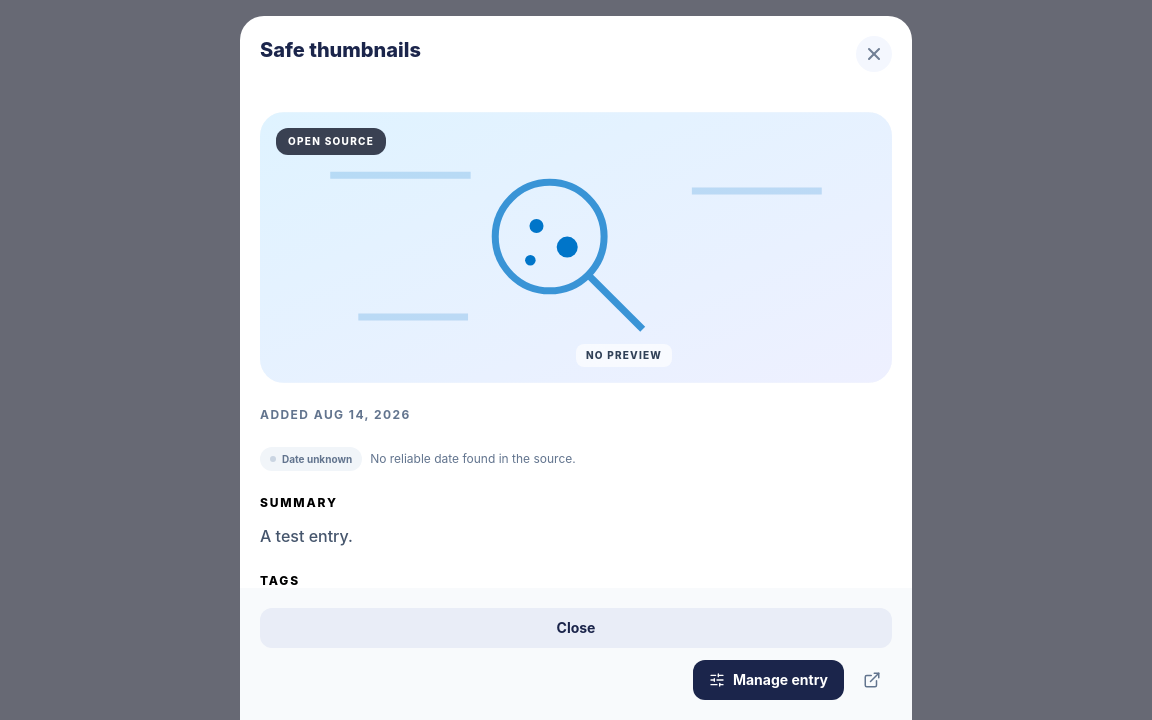
Scenario: EntryModal detail and management modes › starts as a read-only detail view and only mounts management controls on request
Expected: the text "A test entry." is shown, [260,526,353,546]
Expected: the field labelled "Title" is not shown
Click the button "Manage entry": (768, 680) [693,660,844,700]
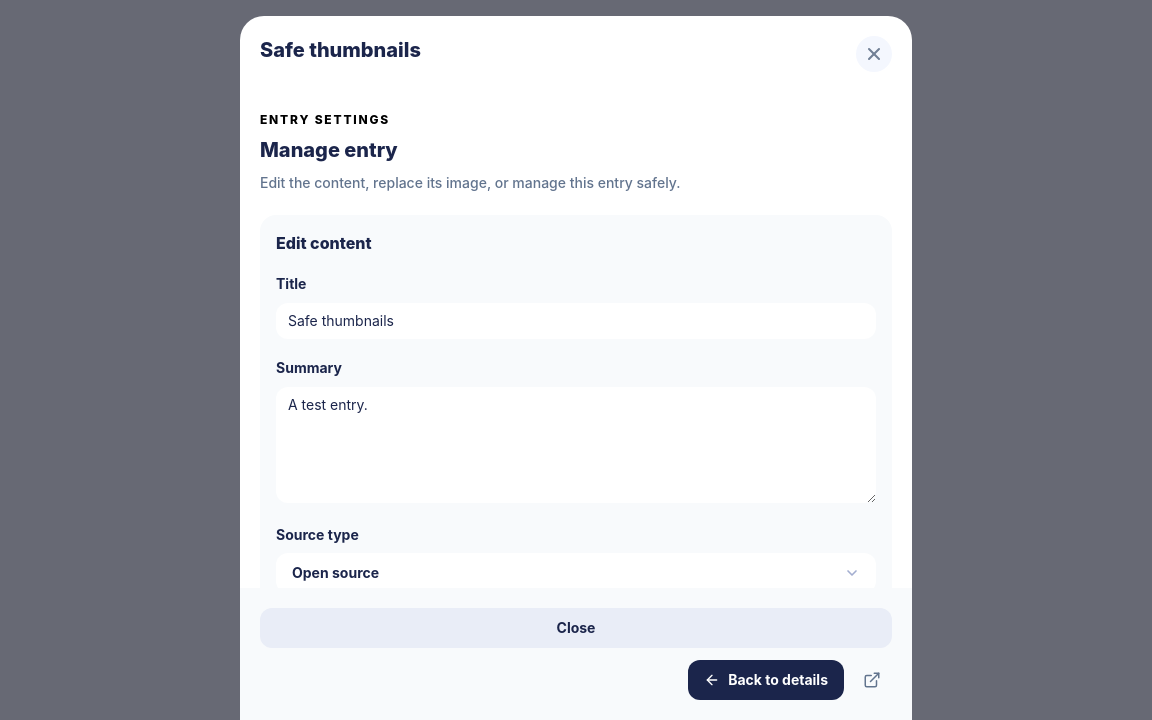
Expected: the button named "Manage entry" is expanded
Expected: the field labelled "Title" is shown, [276,303,876,339]
Expected: the text box labelled "Summary" is shown, [276,387,876,503]
Click the button "Back to details": (766, 680) [688,660,844,700]
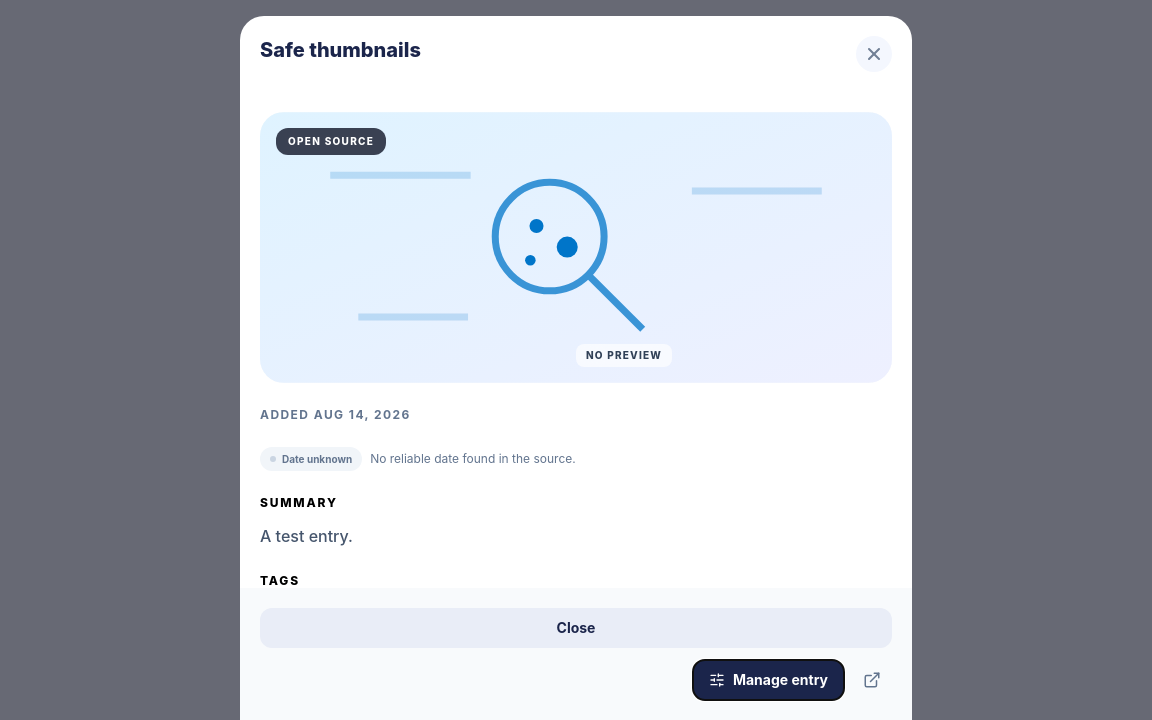
Expected: the button named "Back to details" is collapsed, [693,660,844,700]
Expected: the text "A test entry." is shown, [260,526,353,546]
Expected: the label labelled "Title" is gone
